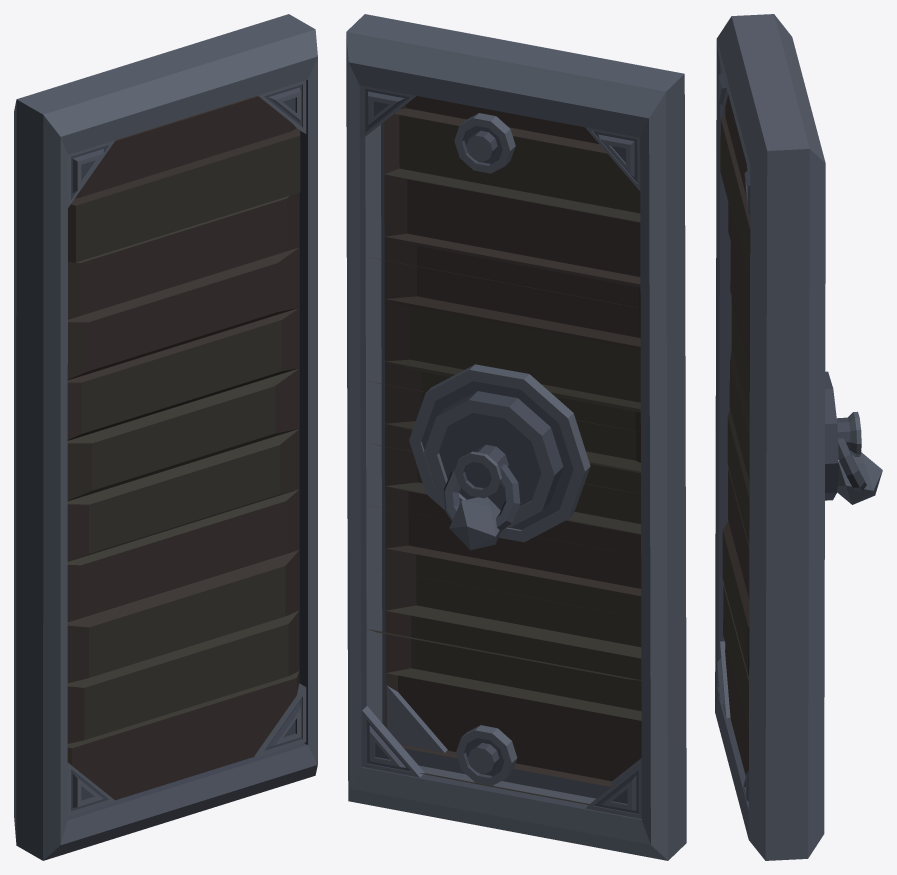
File: dar_rast.gltf
3 views of the same model, side by side, from view 1: azimuth 30°, elevation 25°; view 2: azimuth 150°, elevation 25°; view 3: azimuth 270°, elevation 25° (orthographic). The views are drawn at different scales.
Visible parts, largest first — view 1: Cube.002_0.001; view 2: Cube.002_0.001; view 3: Cube.002_0.001.
Part boxes in pixels (bbox=[...]): Cube.002_0.001: bbox=[14, 14, 317, 860]; Cube.002_0.001: bbox=[346, 14, 686, 860]; Cube.002_0.001: bbox=[715, 14, 882, 860].
Bounding box in the file's own units: 12.92 × 31.08 × 6.65.
